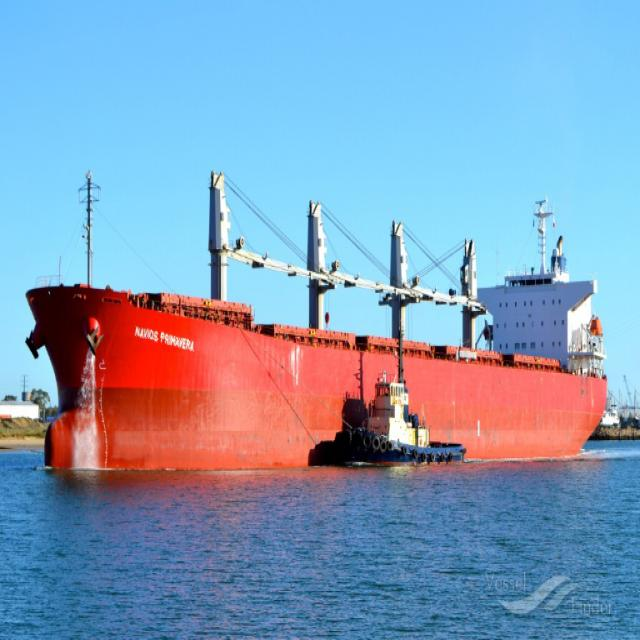OCR: (132, 322, 196, 352)
